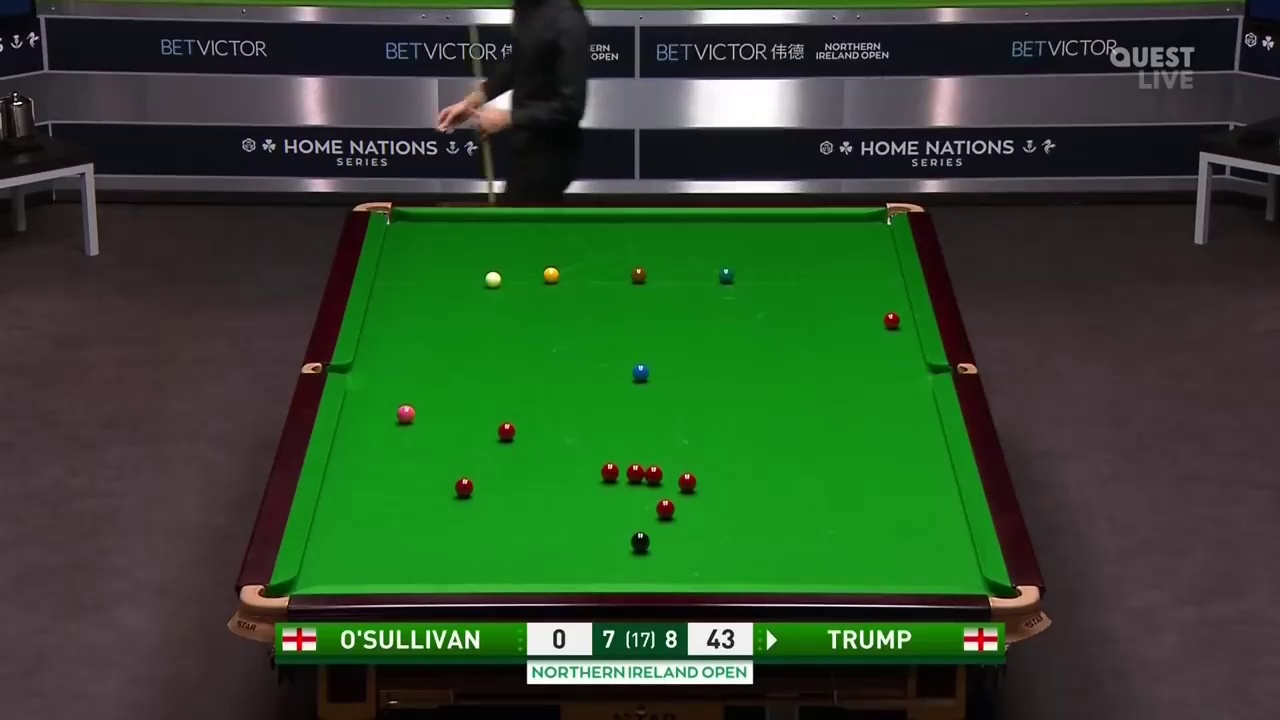black: (629, 535, 650, 551)
blue: (632, 362, 653, 383)
brown: (631, 266, 646, 282)
green: (717, 265, 735, 285)
pink: (398, 405, 415, 422)
red: (495, 422, 515, 445), (677, 472, 697, 494), (455, 478, 474, 500), (599, 463, 620, 481), (645, 466, 663, 487), (654, 503, 676, 520), (884, 311, 900, 327)
white: (483, 271, 502, 289)
yellow: (541, 267, 559, 283)
